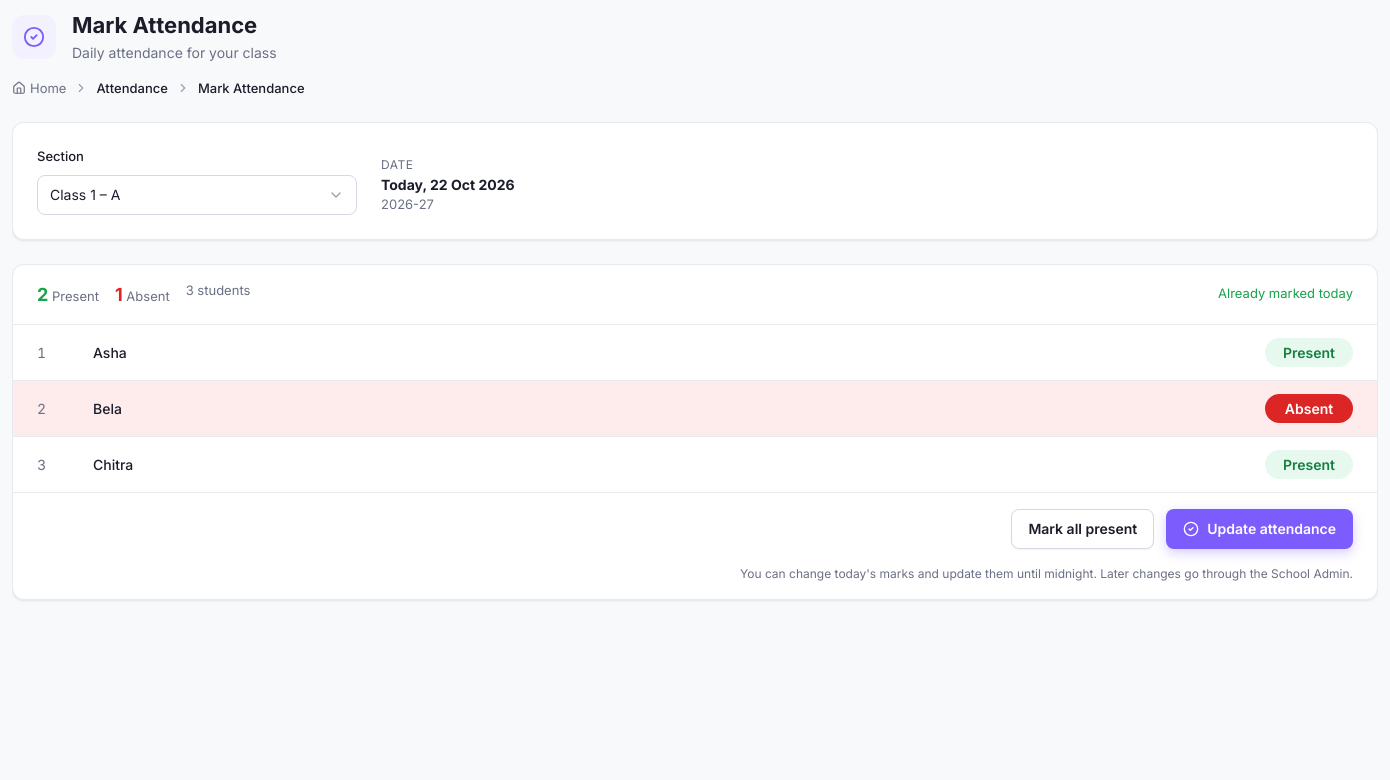
Test: MarkAttendanceComponent › a day that was already marked shows the SAVED marks (not the Present default) and says so; changing one shows "unsaved changes"
The width and height of the screenshot is (1390, 780).
Expected: the text "unsaved changes" is not shown
Step 1. Click the button with class "student" showing "1 Asha Present" → click(110, 352), box x1=13 y1=324 x2=1377 y2=380
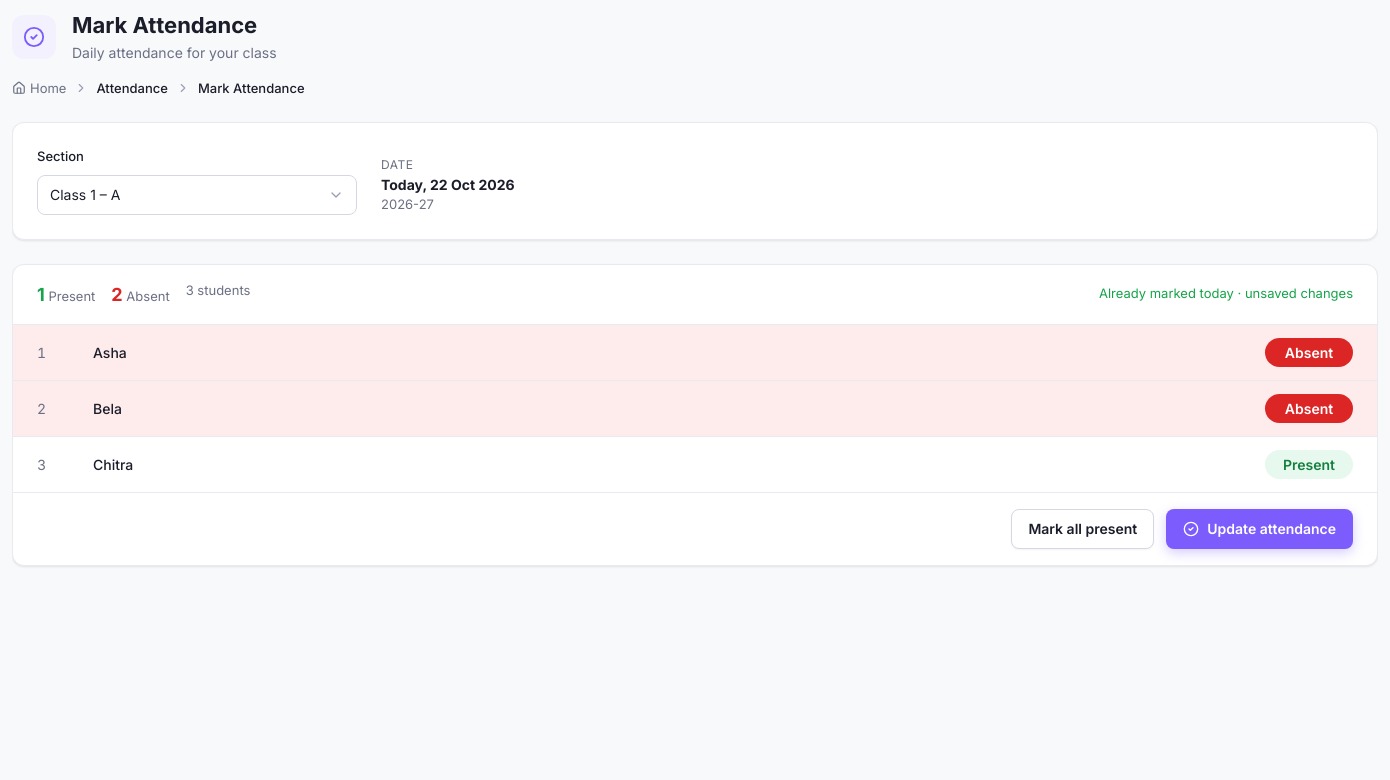
Now the text "unsaved changes" is shown, box x1=1099 y1=285 x2=1353 y2=301
